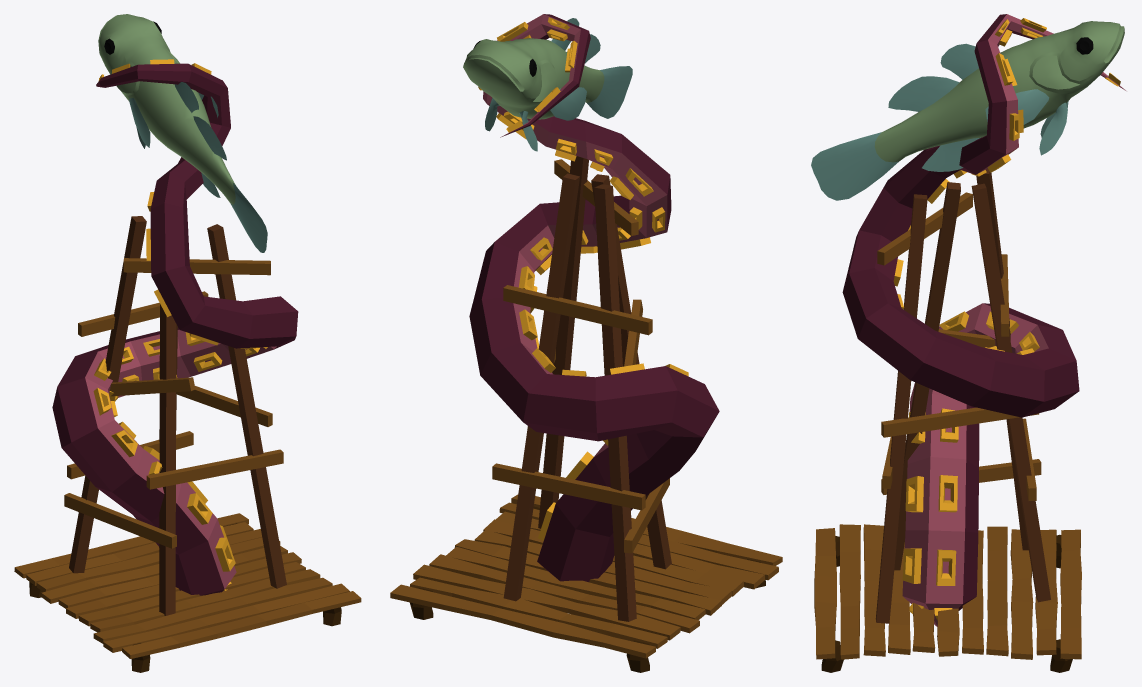
File: Fish.fbx
3 renders of one model, left to right at view 1: azimuth 30°, elevation 25°; view 2: azimuth 150°, elevation 25°; view 3: azimuth 270°, elevation 25°, orthographic. The views are drawn at different scales.
Visible parts, largest first — view 1: Cube.370; view 2: Cube.370; view 3: Cube.370.
Boxes of the visible parts, x1,y1,x2,y2 form: Cube.370: [14, 14, 361, 672]; Cube.370: [390, 14, 782, 672]; Cube.370: [811, 14, 1125, 672].
Bounding box in the file's own units: 3.87 × 8.32 × 3.98.
